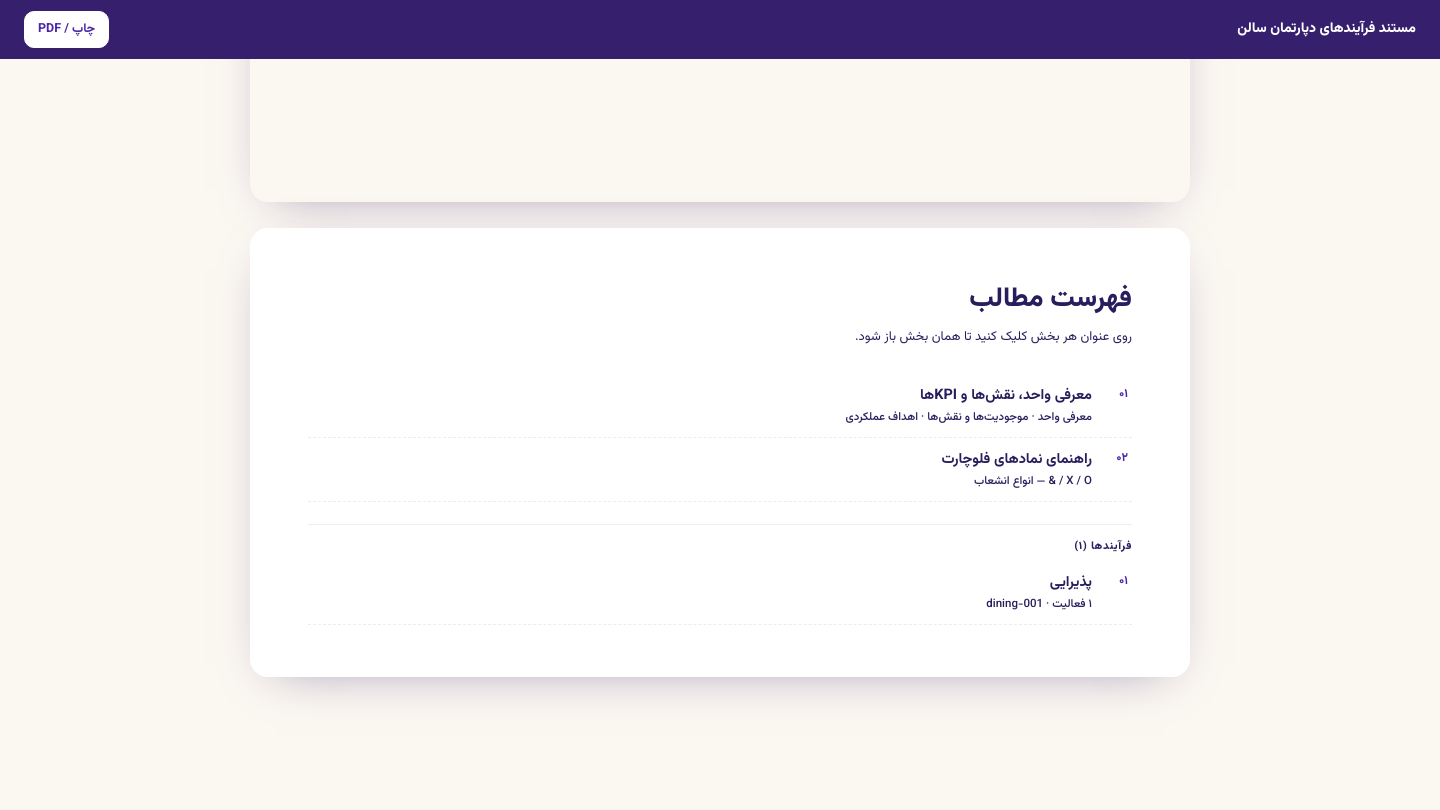
Scenario: Document › opens the unit section with its paragraphs, sub-units, roles and KPIs
This screenshot has width=1440, height=810.
(page scrolled)
Click the text "معرفی واحد، نقش‌ها و KPIها".
click(969, 405)  # box [845,384,1092,426]
(page scrolled)
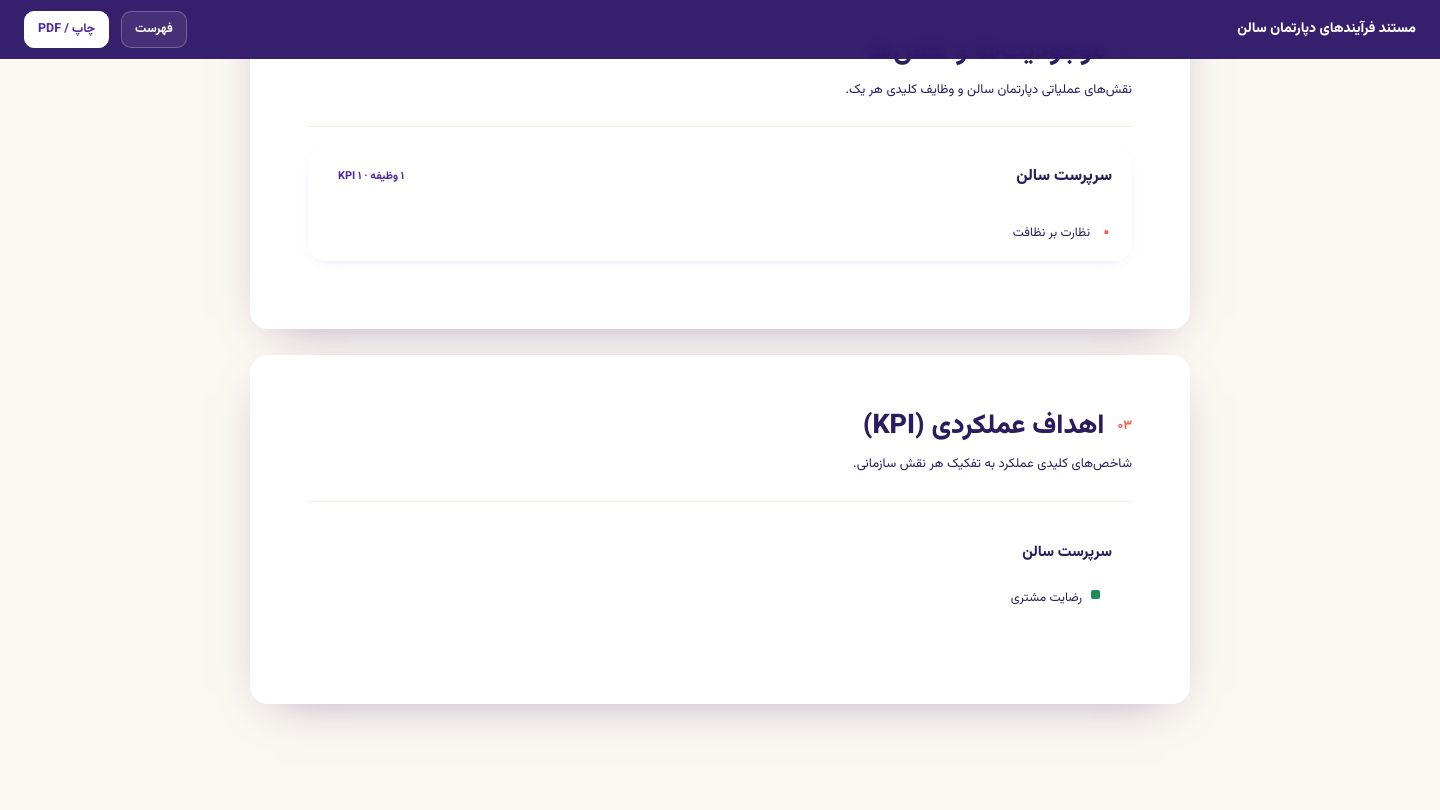
Expected: the text "سرپرست سالن" is shown 2 times, [1016,165,1112,189]; [1022,542,1112,564]
Expected: the list item "نظارت بر نظافت" is shown, [1013,222,1090,242]
Expected: the list item "رضایت مشتری" is shown, [1011,588,1082,608]
